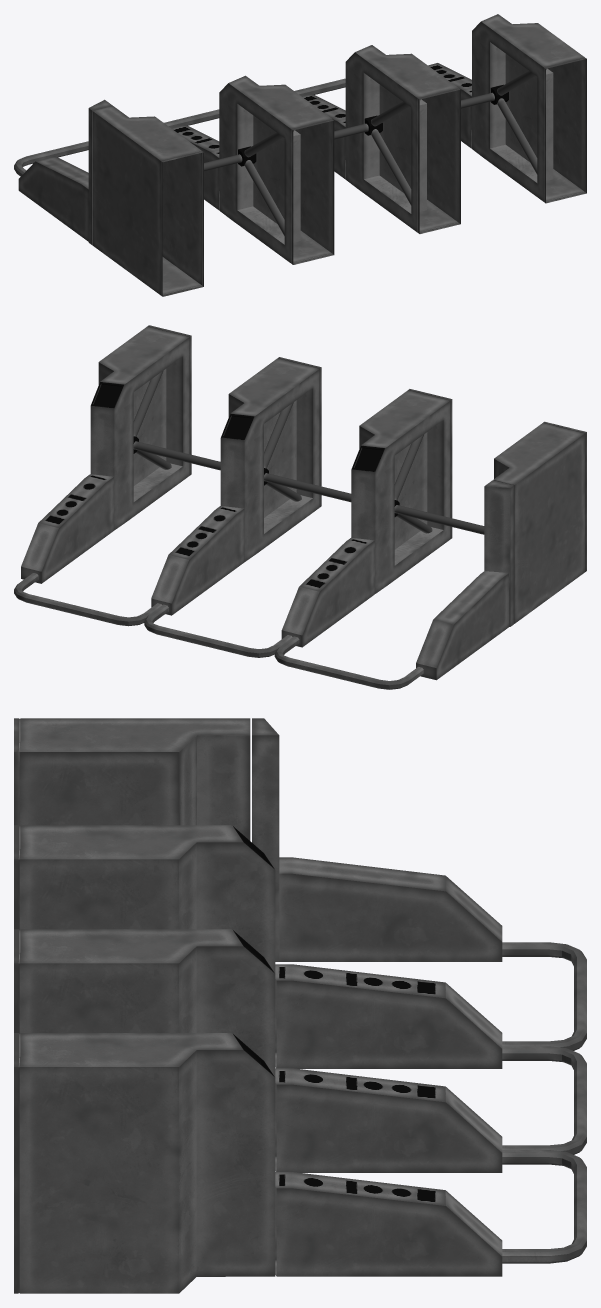
The model's file is Ticket_Machine.fbx.
3 views of the same model, one above another, from view 1: azimuth 30°, elevation 25°; view 2: azimuth 150°, elevation 25°; view 3: azimuth 270°, elevation 25° (orthographic). The views are drawn at different scales.
Visible parts, largest first — view 1: pCube70_M_Turnstile_0.002; view 2: pCube70_M_Turnstile_0.002; view 3: pCube70_M_Turnstile_0.002.
Part boxes in pixels (x1,y1,x2,y2): pCube70_M_Turnstile_0.002: [14, 14, 586, 296]; pCube70_M_Turnstile_0.002: [14, 325, 586, 689]; pCube70_M_Turnstile_0.002: [14, 718, 586, 1293].
Size of the model in its own units: 432 by 131 by 300.
